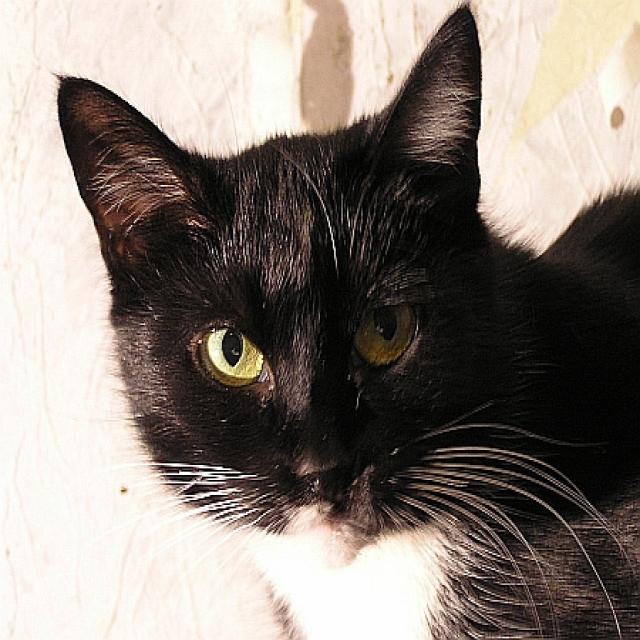left eye: (351, 297, 421, 368)
